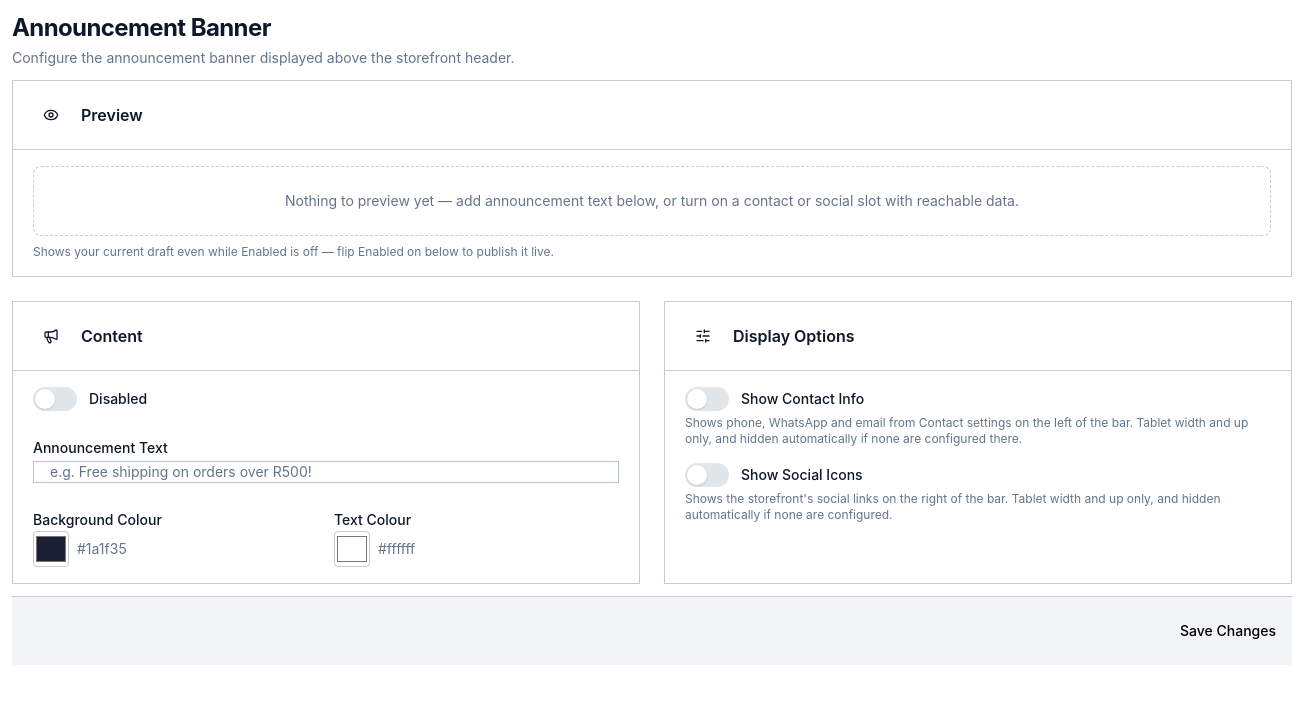
AnnouncementEditorPage › live preview updates with unsaved values (Requirement 7.4) › updates preview text when typing in the text input
This screenshot has width=1304, height=720.
Type "Free shipping today!" into the field labelled "Announcement Text" at x=326, y=472, box top-left (33, 461), bottom-right (619, 483)
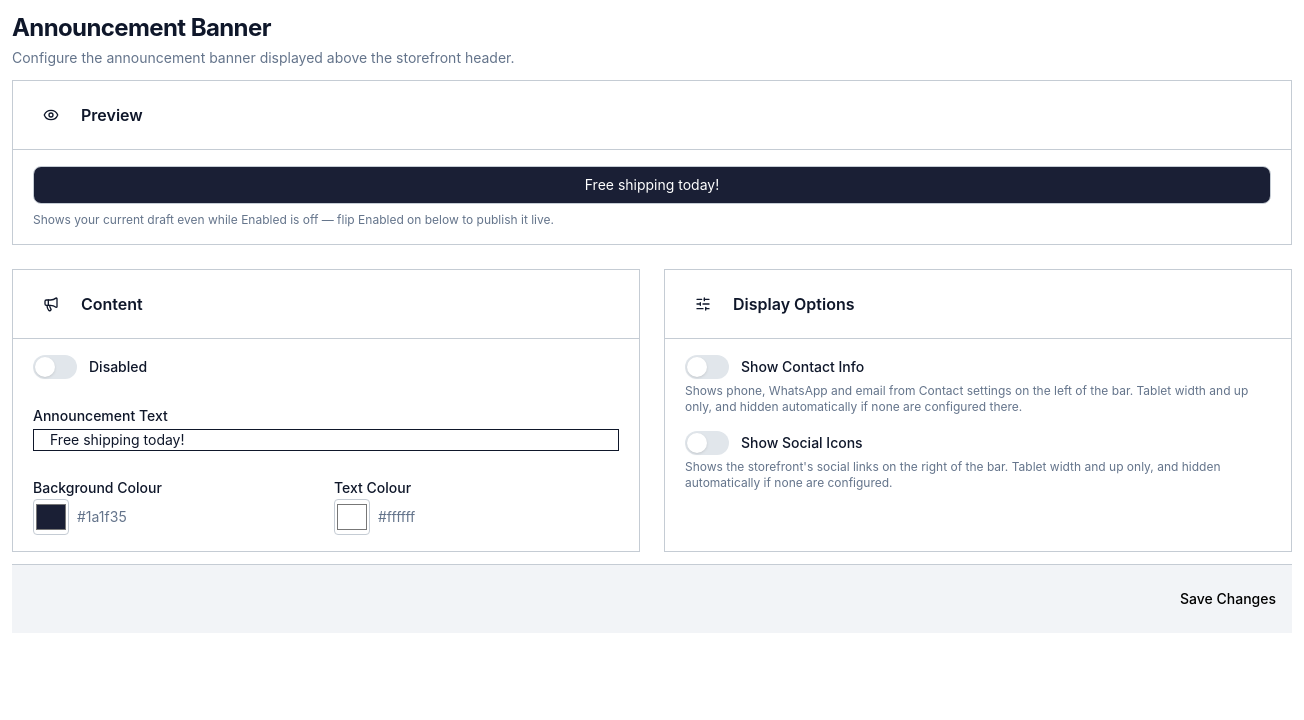
Expected: the text "Free shipping today!" is shown, top-left (585, 175), bottom-right (719, 195)
